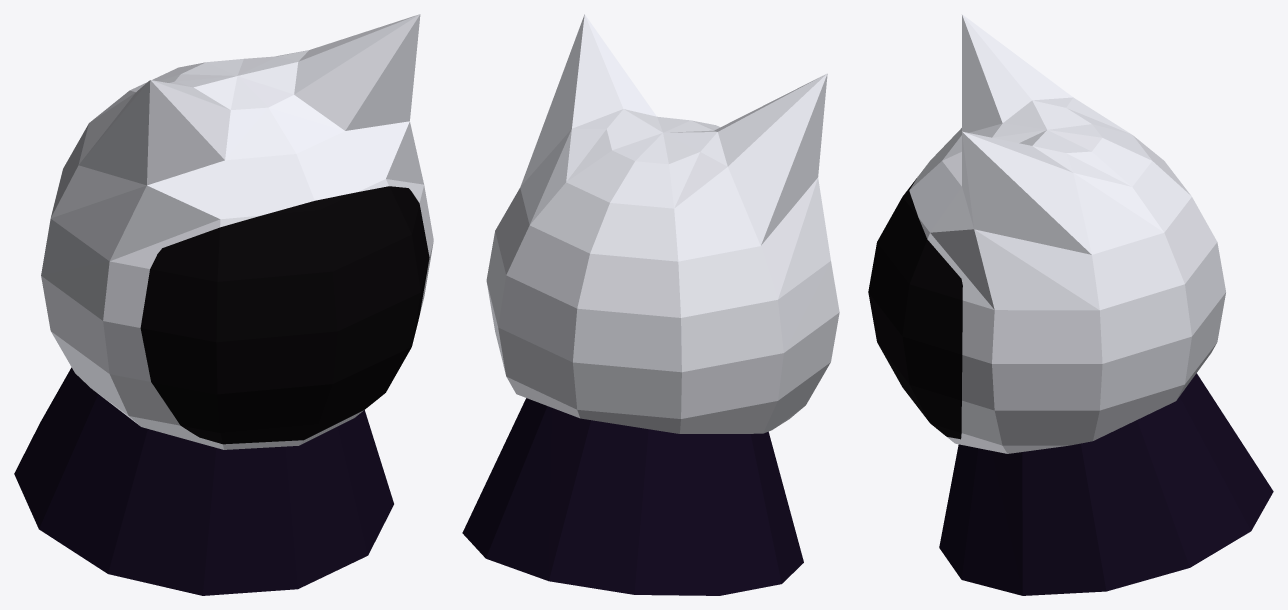
The picture shows the model from 3 angles, left to right: view 1: azimuth 30°, elevation 25°; view 2: azimuth 150°, elevation 25°; view 3: azimuth 270°, elevation 25°; orthographic projection. The views are drawn at different scales.
Visible parts, largest first — view 1: UV_Sphere_split_1, UV_Sphere_1, Cylinder; view 2: UV_Sphere_split_1, Cylinder; view 3: UV_Sphere_split_1, Cylinder, UV_Sphere_1.
Part boxes in pixels (box(x1,y1,x2,y2)): UV_Sphere_split_1: box(41, 14, 433, 449); UV_Sphere_1: box(140, 186, 429, 444); Cylinder: box(14, 367, 393, 595); UV_Sphere_split_1: box(486, 14, 839, 433); Cylinder: box(462, 398, 803, 595); UV_Sphere_split_1: box(909, 14, 1225, 453); Cylinder: box(939, 373, 1273, 595); UV_Sphere_1: box(868, 178, 962, 439).
Size of the model in its own units: 0.9511 by 1.46 by 1.13.
